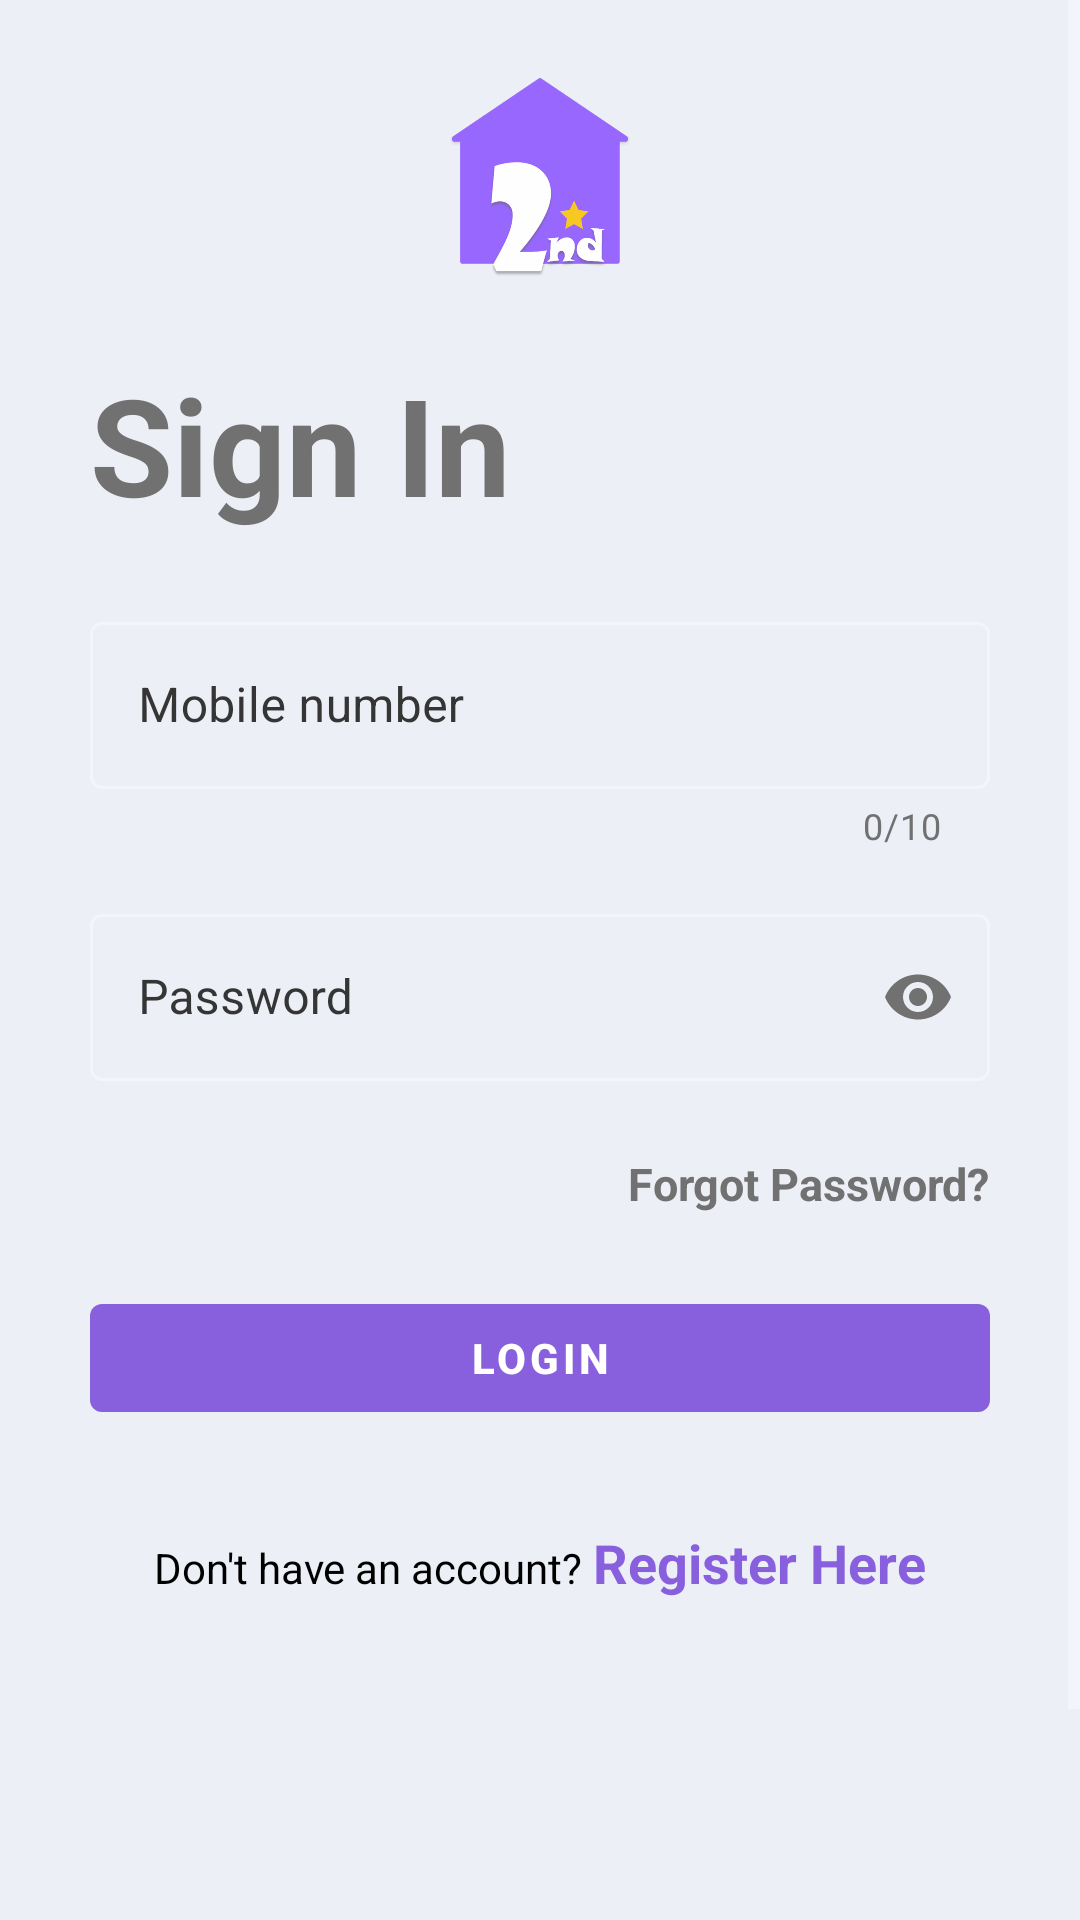

Screen size 1080 × 1920. Icon name, then its box in pixels as (x1, y1, x2, y2):
appicon: (452, 78, 629, 274)
